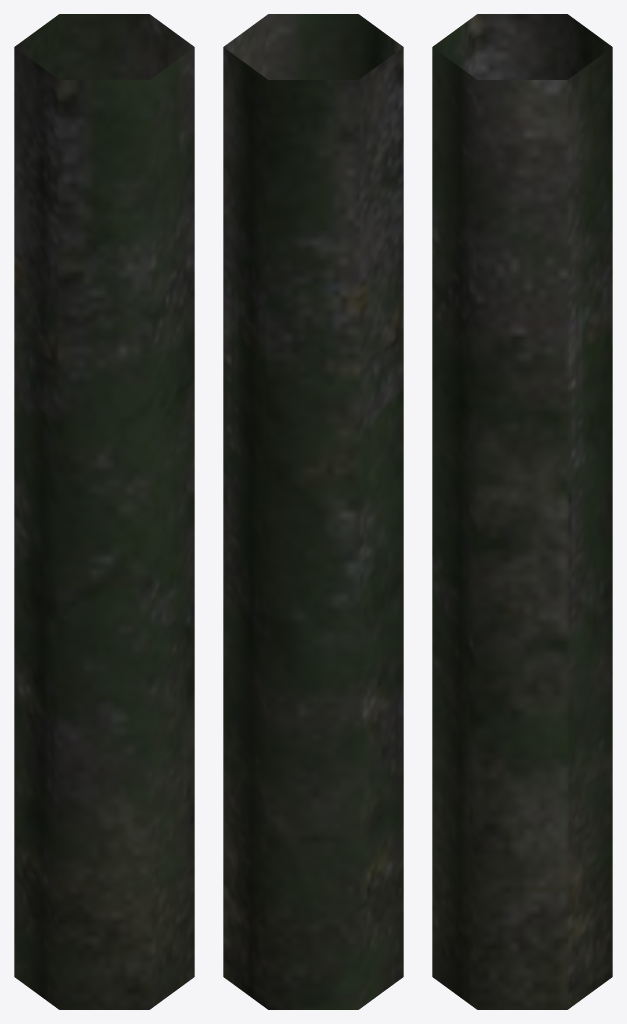
Rendered from MossyThick_S01.FBX.
The picture shows the model from 3 angles, left to right: view 1: azimuth 30°, elevation 25°; view 2: azimuth 150°, elevation 25°; view 3: azimuth 270°, elevation 25°; orthographic projection.
Parts seen in each view (by area): view 1: MossyThick_S01; view 2: MossyThick_S01; view 3: MossyThick_S01.
Boxes of the visible parts, x1,y1,x2,y2 form: MossyThick_S01: [14, 14, 194, 1009]; MossyThick_S01: [223, 14, 403, 1009]; MossyThick_S01: [432, 14, 612, 1009].
Size of the model in its own units: 20.78 by 137 by 24.
